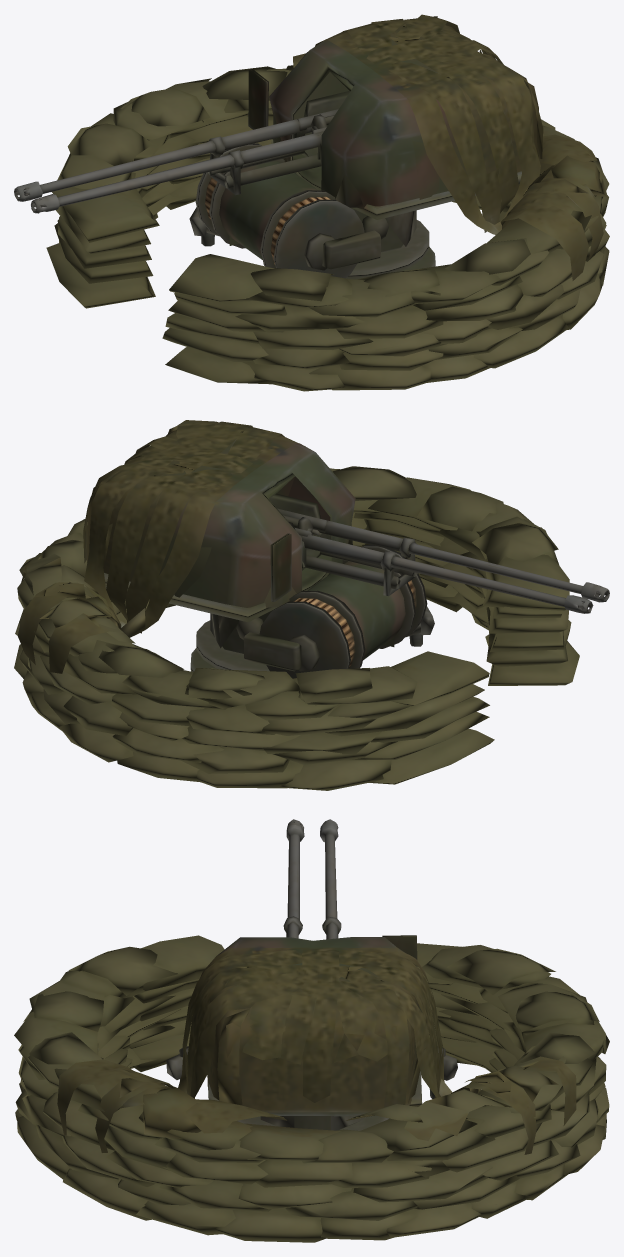
The model's file is cn-gattling-nest.glb.
The picture shows the model from 3 angles, top to bottom: view 1: azimuth 30°, elevation 25°; view 2: azimuth 150°, elevation 25°; view 3: azimuth 270°, elevation 25°; orthographic projection. The views are drawn at different scales.
Visible parts, largest first — view 1: geometry_0; view 2: geometry_0; view 3: geometry_0.
Part boxes in pixels (box(x1,y1,x2,y2)): geometry_0: box(14, 14, 609, 391); geometry_0: box(14, 420, 609, 790); geometry_0: box(14, 819, 609, 1242).
Size of the model in its own units: 1 by 0.3584 by 0.9399.
Materials: 1 (1 with a texture image).
